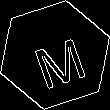M_N: (24, 23, 86, 87)
